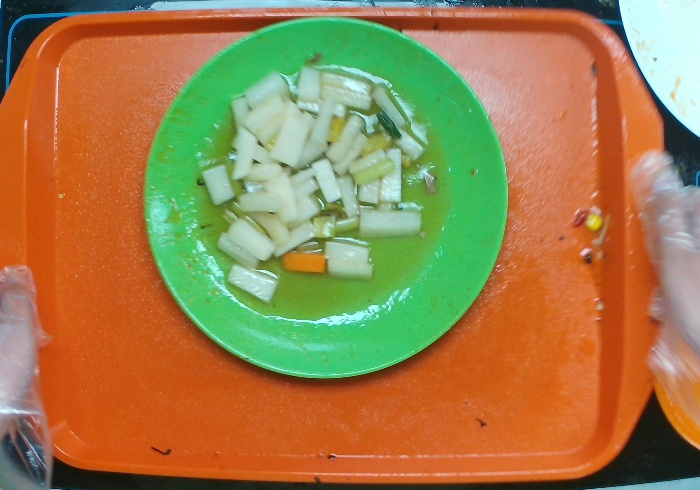HZYJPL-Lv_Se_Yuan_Pan: (138, 7, 515, 398)
